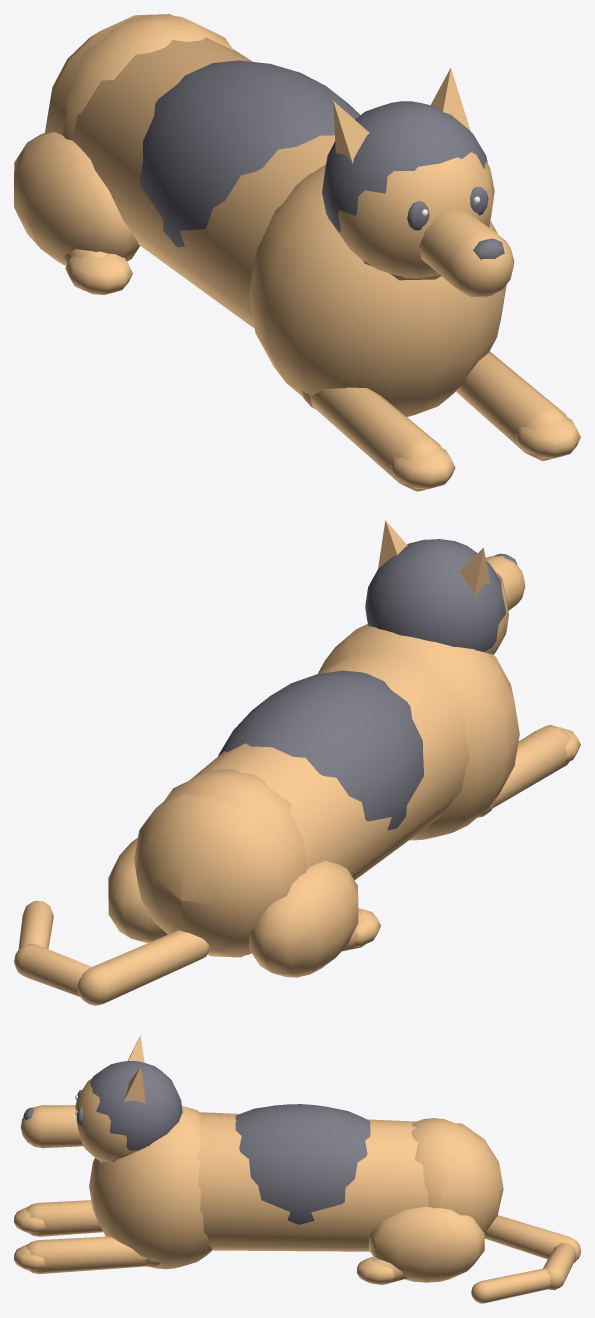
The model's file is companion-animals-and-pet-home-dog-shepherd-lie-48ff9434__20577.glb.
The picture shows the model from 3 angles, top to bottom: view 1: azimuth 30°, elevation 25°; view 2: azimuth 150°, elevation 25°; view 3: azimuth 270°, elevation 25°; orthographic projection. The views are drawn at different scales.
Parts seen in each view (by area): view 1: dog-shepherd-lie; view 2: dog-shepherd-lie; view 3: dog-shepherd-lie.
Boxes of the visible parts, x1,y1,x2,y2 form: dog-shepherd-lie: (14, 14, 580, 491); dog-shepherd-lie: (14, 520, 580, 1005); dog-shepherd-lie: (14, 1035, 580, 1303).
Bounding box in the file's own units: 0.4423 × 0.434 × 1.06.
